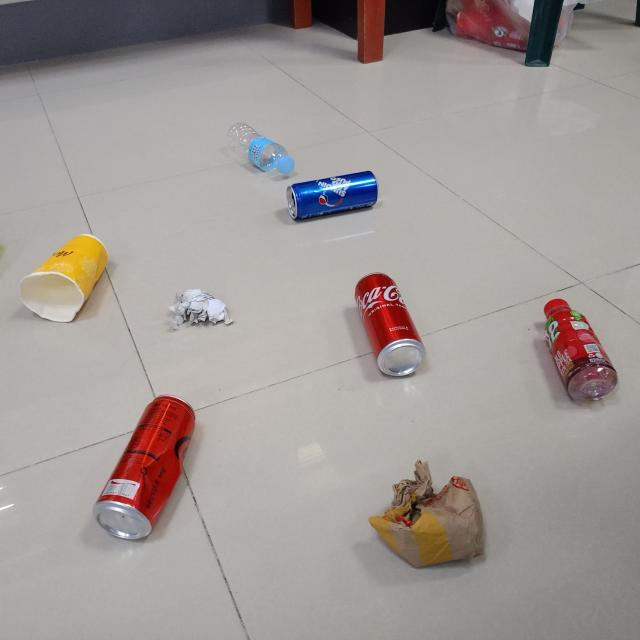recyclable waste: (88, 390, 204, 548), (362, 452, 492, 572), (540, 293, 623, 409), (15, 230, 114, 326), (350, 268, 430, 382), (281, 167, 384, 226), (222, 118, 299, 182), (163, 284, 235, 336)
